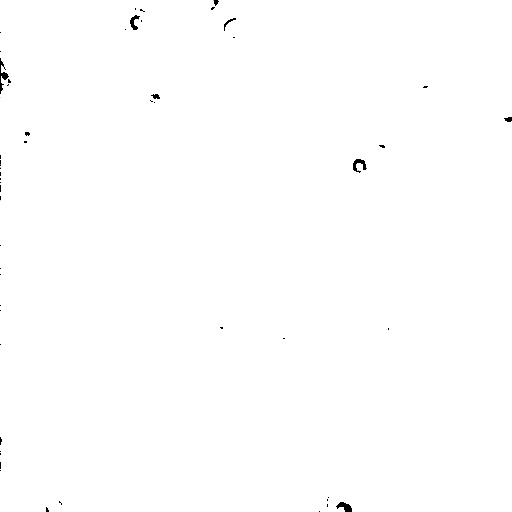micro-algae: (281, 191, 329, 243), (260, 323, 302, 363), (119, 5, 154, 35), (283, 243, 309, 265), (366, 141, 393, 162), (311, 489, 332, 511), (1, 435, 15, 466), (415, 85, 439, 103), (1, 61, 13, 94), (349, 155, 369, 174), (222, 19, 243, 37), (15, 129, 37, 146), (386, 318, 405, 336), (44, 497, 65, 511), (219, 0, 239, 14), (333, 499, 355, 511), (499, 183, 511, 204), (497, 107, 511, 124), (0, 71, 11, 91), (199, 1, 219, 9)
